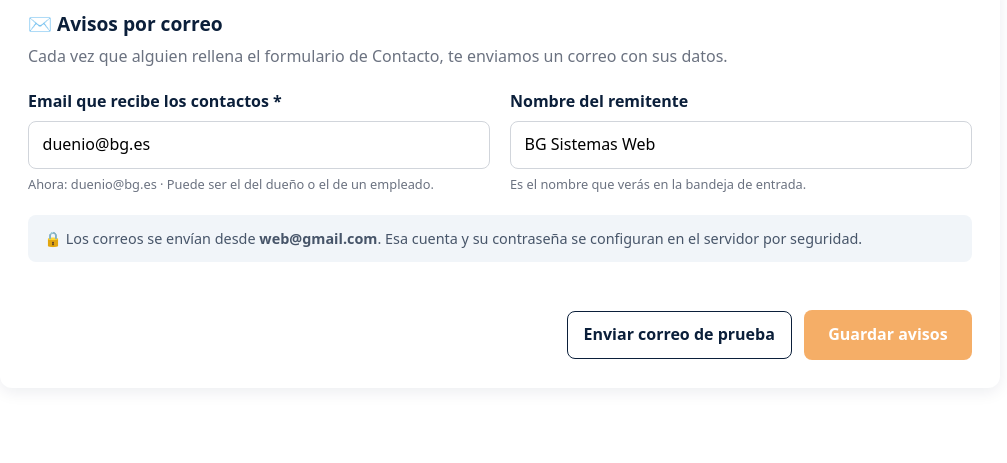
Scenario: MailSettingsForm (BGSI-261) › sends a test email, but only when there are no unsaved changes
This screenshot has width=1007, height=463.
Replace the text in the field with id "mail-sender-name" with "Web de BG" at (741, 145), box [510,120,972,169]
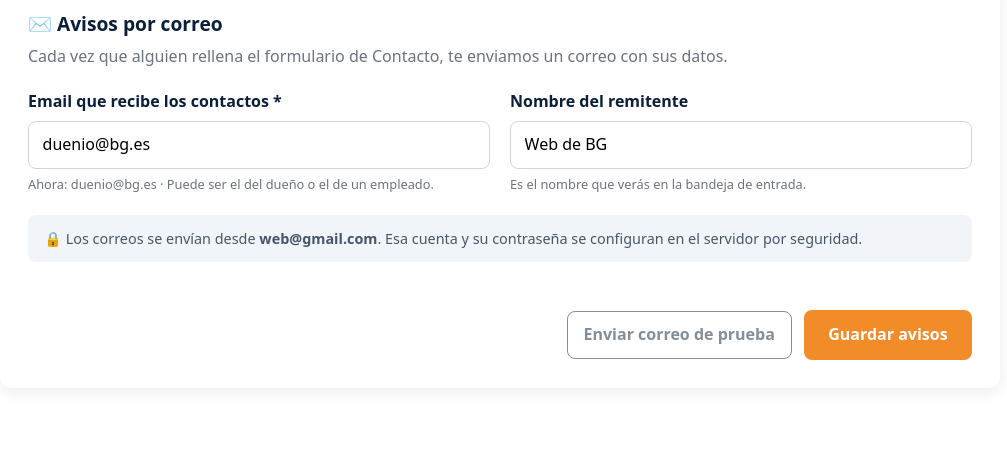
Result: the button with class "mail-settings__test" is disabled at [566,311,792,359]
Replace the text in the field with id "mail-sender-name" with "BG Sistemas Web" at (741, 145), box [510,120,972,169]
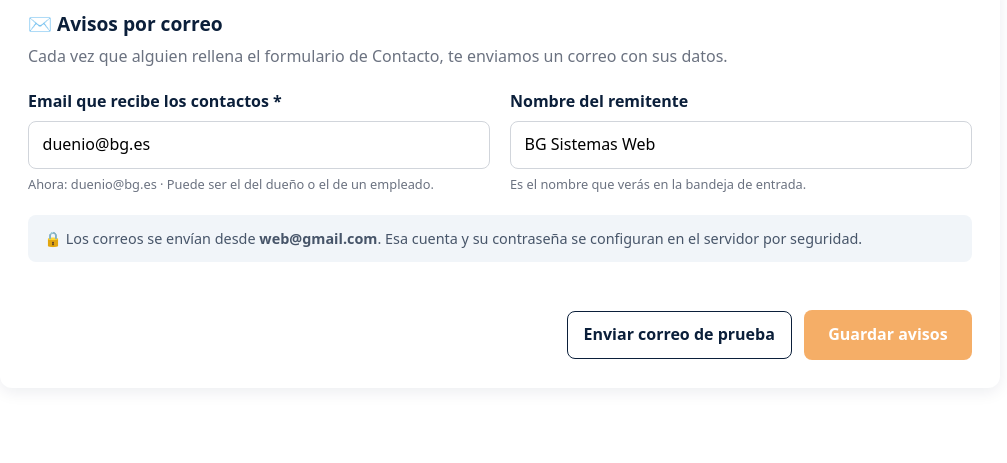
Click the button with class "mail-settings__test" at (679, 335), box [566,311,792,359]
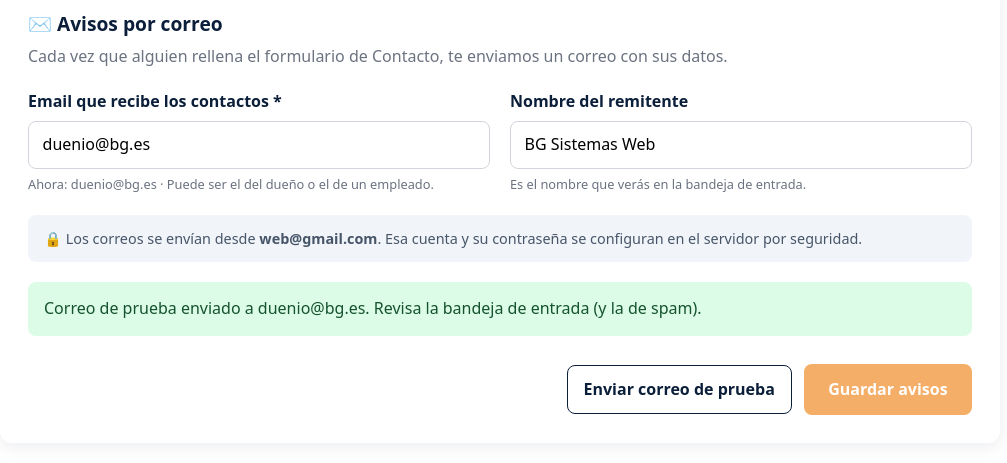
Result: the message shows "Correo de prueba enviado a duenio@bg.es" at [44,297,702,319]
